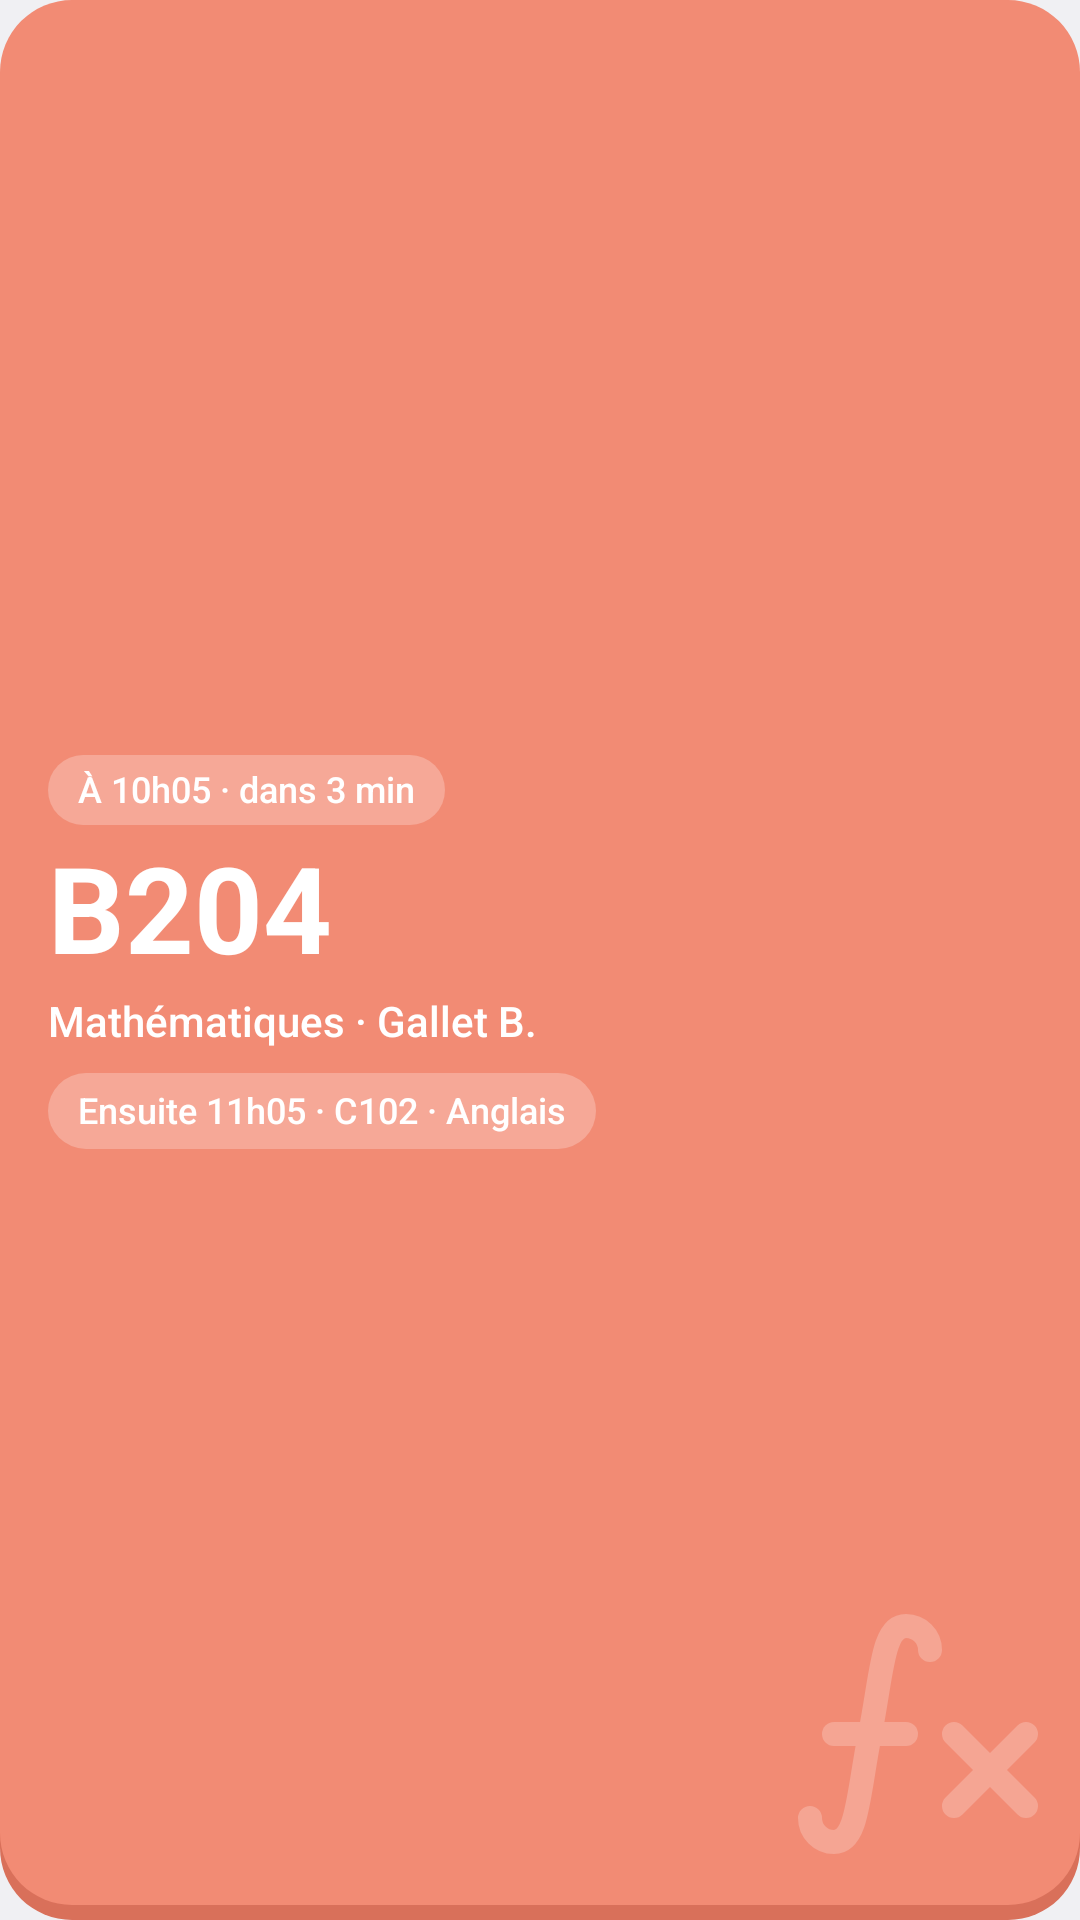

Screen size 1080px x 1920px. Icon name, then its center in pixels as point (x, y):
maths: point (918, 1734)
